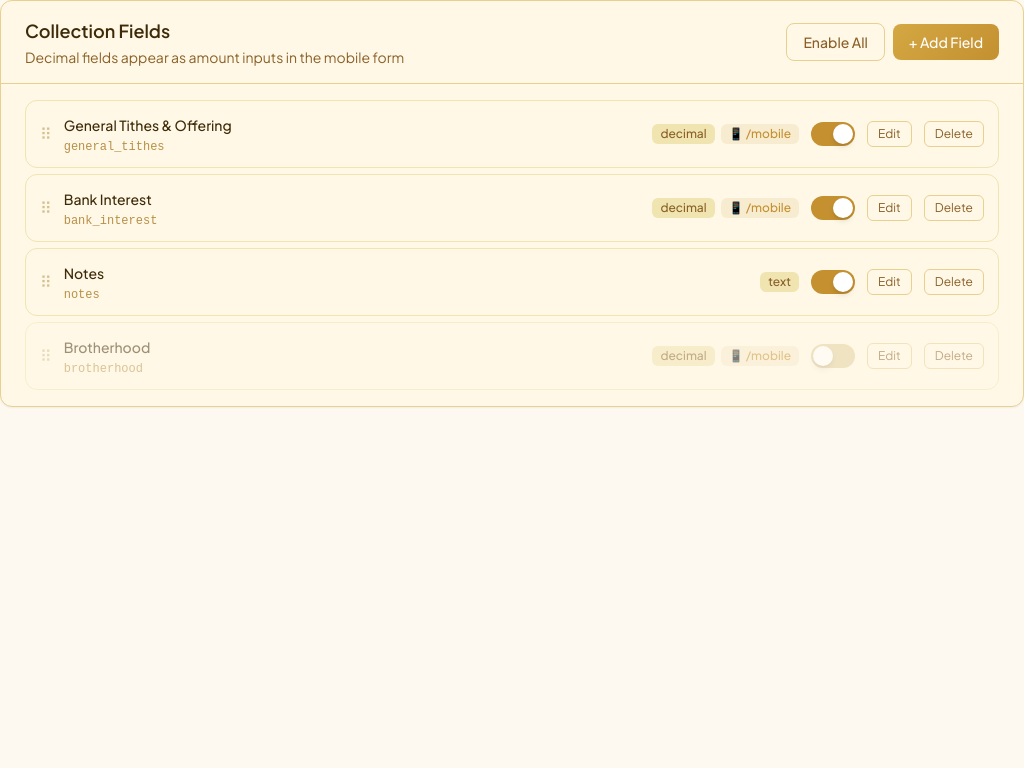
Test case: Field Name input is disabled when editing
Expected: the text "General Tithes & Offering" is shown, [64,116,232,134]
Click the button "Edit" in the row of "General Tithes & Offering" at (889, 134), box [867,121,912,147]
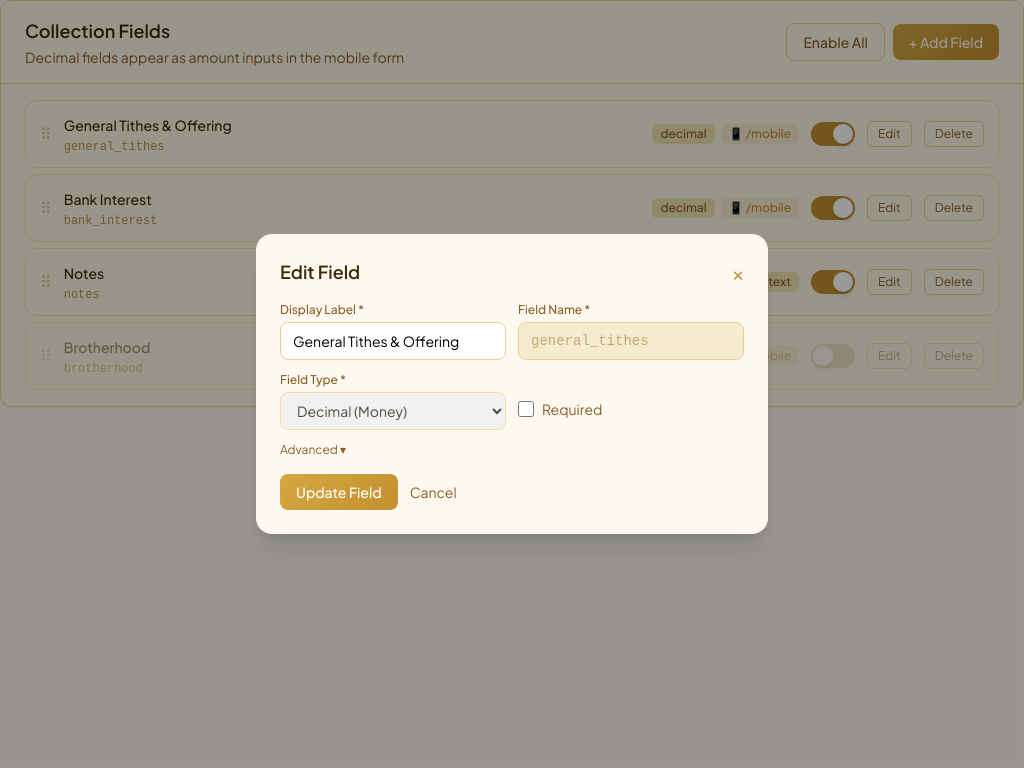
Result: the field showing "general_tithes" below "Field Name *" is disabled at [518,322,744,360]
